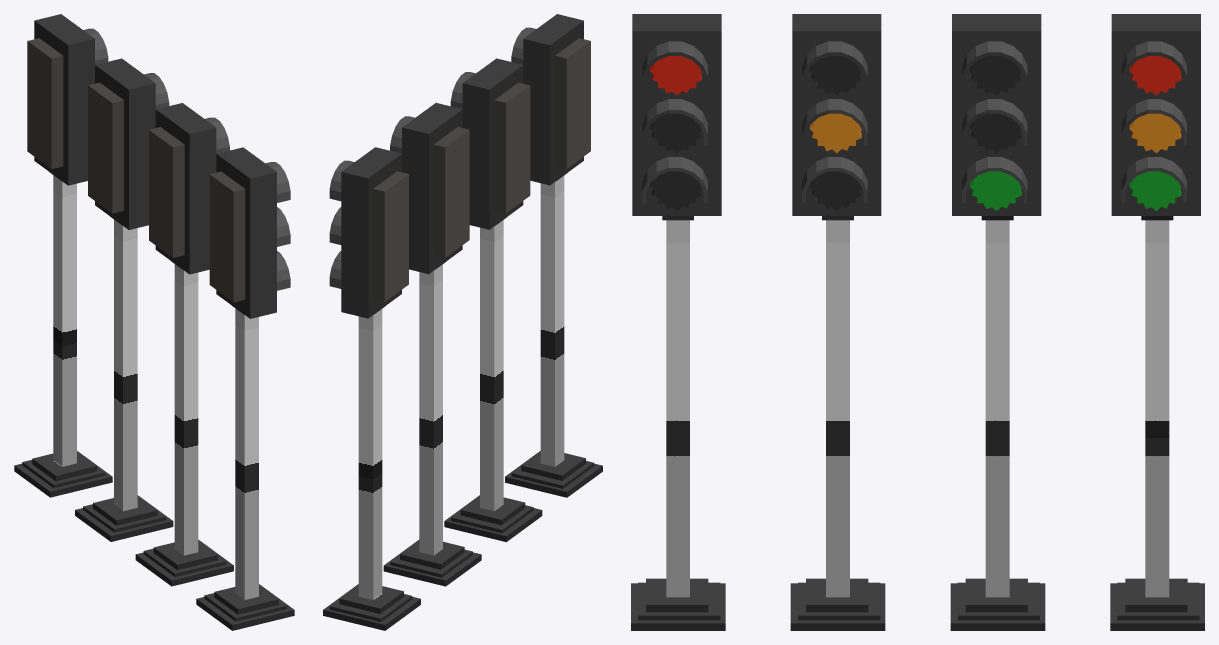
The model's file is traffic_light (4).glb.
3 renders of one model, left to right at view 1: azimuth 30°, elevation 25°; view 2: azimuth 150°, elevation 25°; view 3: azimuth 270°, elevation 25°, orthographic. The views are drawn at different scales.
Visible parts, largest first — view 1: cube_148, cube_2, cube_198, cube_98, cube_177, cube_127, cube_27, cube_77, cube_194, cube_47, cube_144, cube_94 (+12 smaller); view 2: cube_2, cube_198, cube_148, cube_98, cube_27, cube_127, cube_177, cube_77, cube_94, cube_144, cube_47, cube_194 (+12 smaller); view 3: cube_27, cube_77, cube_127, cube_177, cube_2, cube_98, cube_148, cube_198, cube_3, cube_97, cube_197, cube_147 (+20 smaller).
Boxes of the visible parts, x1,y1,x2,y2 form: cube_148: [174, 264, 198, 555]; cube_2: [53, 175, 76, 466]; cube_198: [235, 308, 258, 599]; cube_98: [114, 220, 137, 511]; cube_177: [216, 147, 276, 318]; cube_127: [155, 103, 216, 274]; cube_27: [34, 14, 94, 185]; cube_77: [95, 58, 155, 229]; cube_194: [209, 171, 245, 302]; cube_47: [27, 38, 63, 168]; cube_144: [149, 127, 184, 257]; cube_94: [88, 82, 123, 213]; cube_2: [358, 309, 382, 599]; cube_198: [540, 176, 564, 466]; cube_148: [480, 220, 503, 511]; cube_98: [419, 264, 442, 555]; cube_27: [341, 147, 401, 318]; cube_127: [462, 58, 523, 229]; cube_177: [523, 14, 583, 185]; cube_77: [402, 103, 462, 274]; cube_94: [433, 127, 469, 257]; cube_144: [494, 82, 530, 213]; cube_47: [373, 171, 408, 301]; cube_194: [555, 38, 590, 168]; cube_27: [1111, 14, 1200, 215]; cube_77: [952, 14, 1041, 215]; cube_127: [792, 14, 881, 215]; cube_177: [632, 14, 721, 215]; cube_2: [1145, 220, 1169, 597]; cube_98: [985, 220, 1009, 597]; cube_148: [826, 220, 849, 597]; cube_198: [666, 220, 689, 597]; cube_3: [1125, 578, 1187, 612]; cube_97: [965, 578, 1027, 612]; cube_197: [646, 578, 708, 612]; cube_147: [806, 578, 868, 612].
Bounding box in the file's own units: 0.1486 × 1.02 × 0.898.
Materials: 5 (5 with a texture image).
